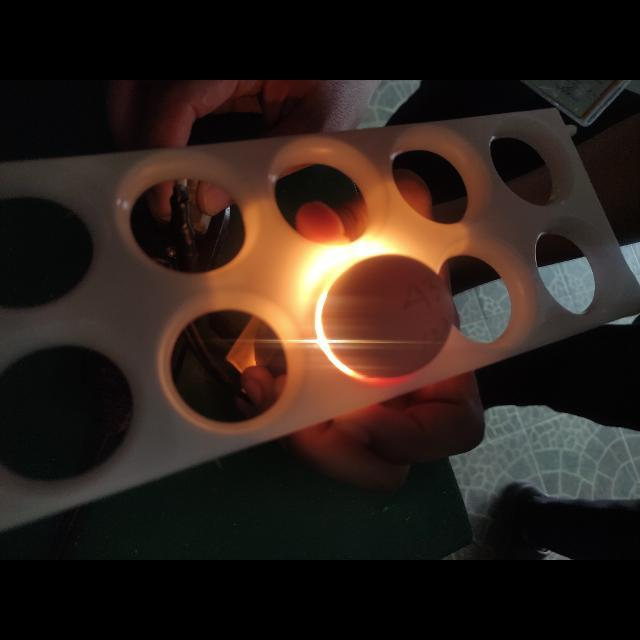Fertile: (324, 250, 454, 378)
